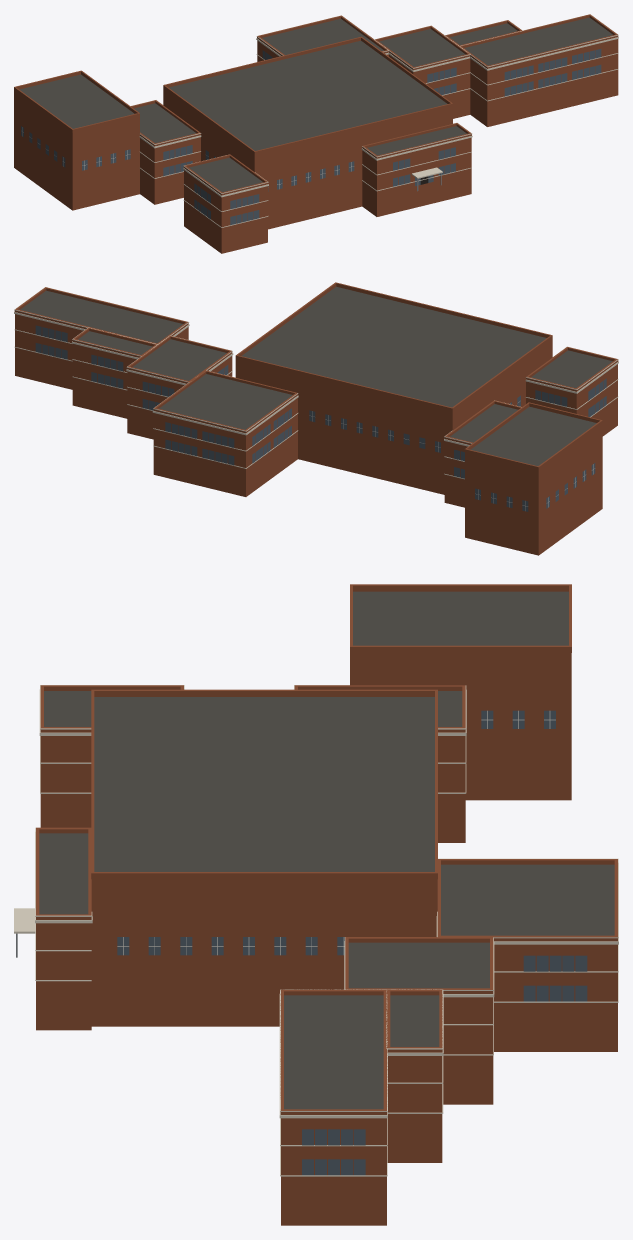
Rendered from crestwood-elementary-nlr.glb.
3 views of the same model, one above another, from view 1: azimuth 30°, elevation 25°; view 2: azimuth 150°, elevation 25°; view 3: azimuth 270°, elevation 25° (orthographic). The views are drawn at different scales.
Parts seen in each view (by area): view 1: crestwood_elementary_nlr; view 2: crestwood_elementary_nlr; view 3: crestwood_elementary_nlr.
Boxes of the visible parts, x1=… form: crestwood_elementary_nlr: x1=14, y1=14, x2=618, y2=253; crestwood_elementary_nlr: x1=14, y1=282, x2=618, y2=555; crestwood_elementary_nlr: x1=14, y1=584, x2=618, y2=1225.
Size of the model in its own units: 125 by 18.31 by 65.52.
